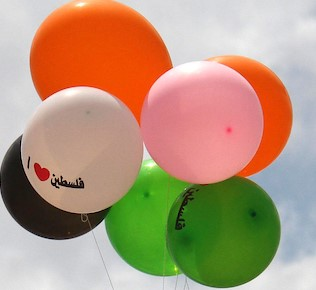Balloon: (20, 86, 144, 214), (141, 61, 263, 185), (167, 175, 280, 287)
